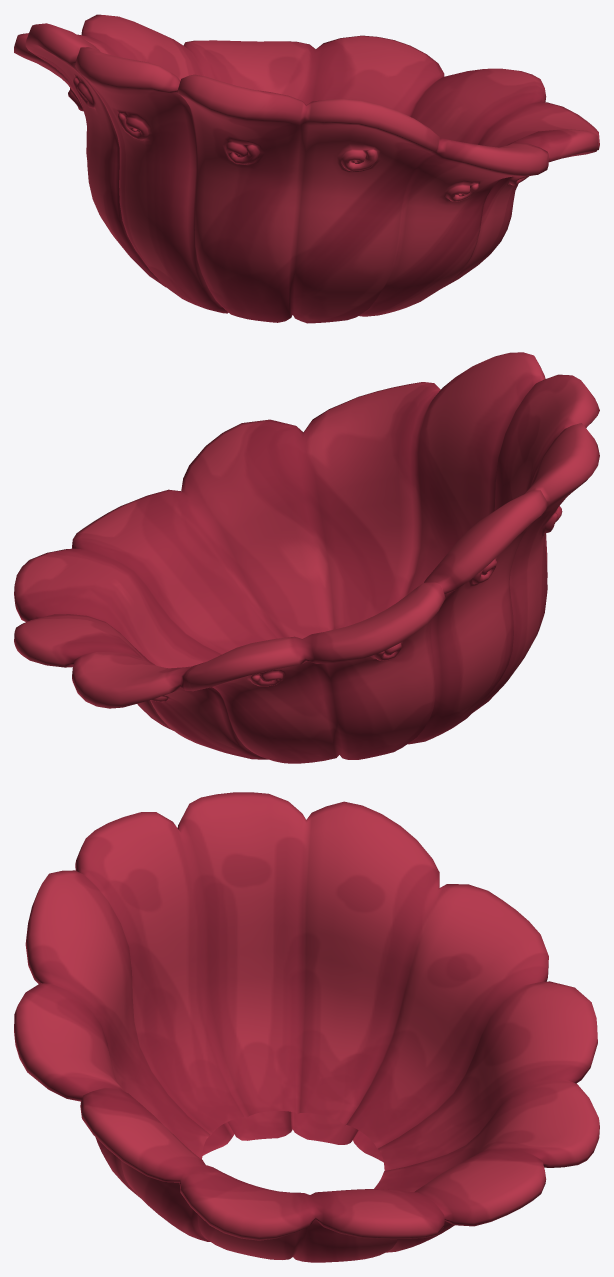
File: flower2.obj
3 renders of one model, top to bottom at view 1: azimuth 30°, elevation 25°; view 2: azimuth 150°, elevation 25°; view 3: azimuth 270°, elevation 25°, orthographic.
Visible parts, largest first — view 1: flower_01_flower_01Shape; view 2: flower_01_flower_01Shape; view 3: flower_01_flower_01Shape.
Part boxes in pixels (box(x1,y1,x2,y2)): flower_01_flower_01Shape: box(14, 14, 599, 323); flower_01_flower_01Shape: box(14, 352, 599, 763); flower_01_flower_01Shape: box(14, 792, 599, 1262).
Bounding box in the file's own units: 22.29 × 13.03 × 22.15.
1 material, 1 textured.
